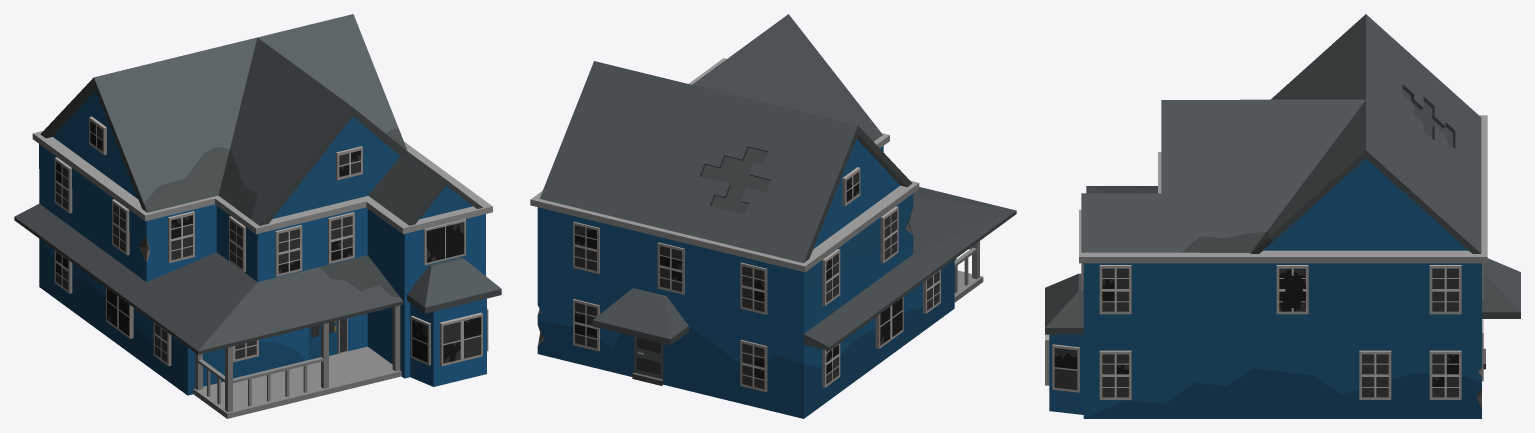
Rendered from SA_Bld_HouseLarge_Damaged_03.gltf.
3 renders of one model, left to right at view 1: azimuth 30°, elevation 25°; view 2: azimuth 150°, elevation 25°; view 3: azimuth 270°, elevation 25°, orthographic. The views are drawn at different scales.
Visible parts, largest first — view 1: SA_Bld_HouseLarge_Damaged_03; view 2: SA_Bld_HouseLarge_Damaged_03; view 3: SA_Bld_HouseLarge_Damaged_03.
Boxes of the visible parts, <box> form: SA_Bld_HouseLarge_Damaged_03: <box>14,14,501,418</box>; SA_Bld_HouseLarge_Damaged_03: <box>530,14,1016,418</box>; SA_Bld_HouseLarge_Damaged_03: <box>1045,14,1520,418</box>.
Bounding box in the file's own units: 19.56 × 15.98 × 25.71.
Materials: 1 (1 with a texture image).
